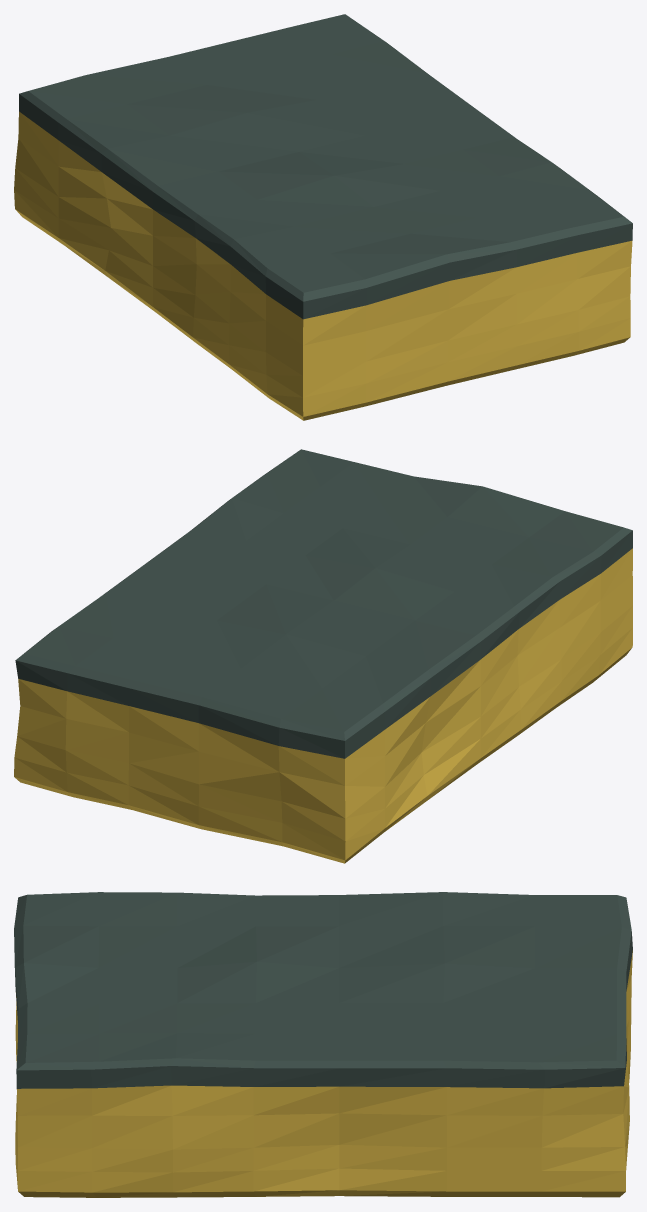
File: Sponge.glb
3 renders of one model, top to bottom at view 1: azimuth 30°, elevation 25°; view 2: azimuth 150°, elevation 25°; view 3: azimuth 270°, elevation 25°, orthographic. The views are drawn at different scales.
Parts seen in each view (by area): view 1: Node; view 2: Node; view 3: Node.
Part boxes in pixels (x1=…): Node: x1=14, y1=14, x2=632, y2=420; Node: x1=14, y1=449, x2=632, y2=863; Node: x1=14, y1=892, x2=632, y2=1197.
Size of the model in its own units: 2.39 by 0.9187 by 3.59.
